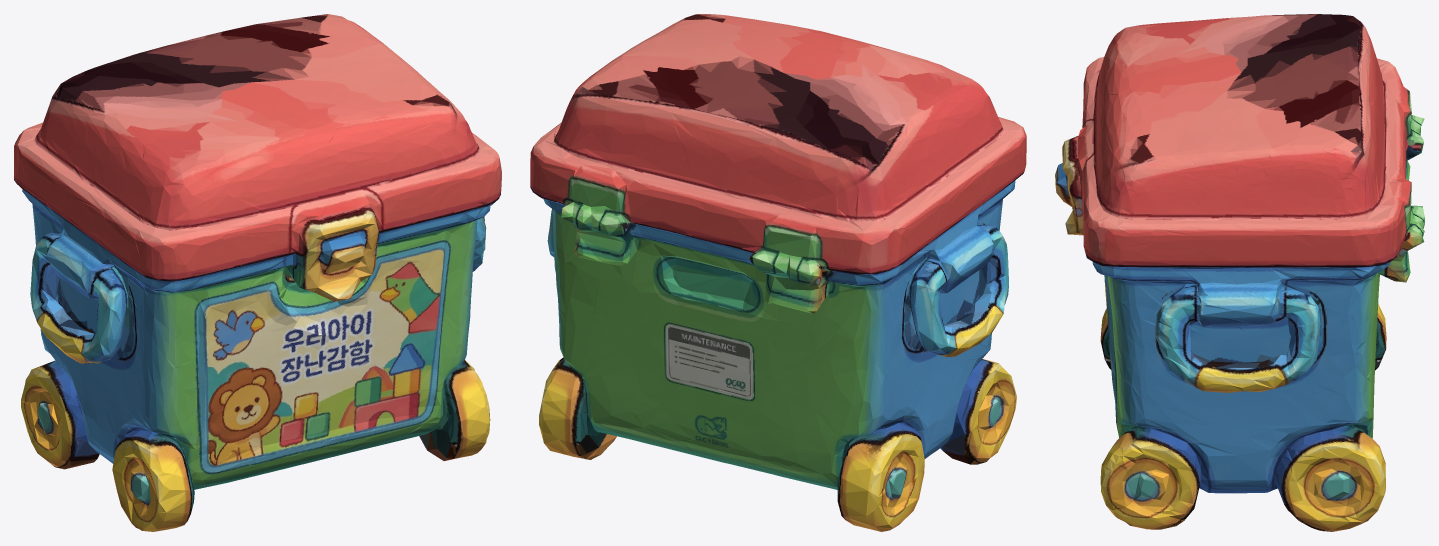
The model's file is toybox.glb.
3 renders of one model, left to right at view 1: azimuth 30°, elevation 25°; view 2: azimuth 150°, elevation 25°; view 3: azimuth 270°, elevation 25°, orthographic.
Visible parts, largest first — view 1: geometry_0; view 2: geometry_0; view 3: geometry_0.
Boxes of the visible parts, <box> form: geometry_0: <box>14,14,501,531</box>; geometry_0: <box>530,14,1026,531</box>; geometry_0: <box>1055,14,1424,531</box>.
Size of the model in its own units: 0.3294 by 0.3 by 0.2631.
Materials: 1 (1 with a texture image).
